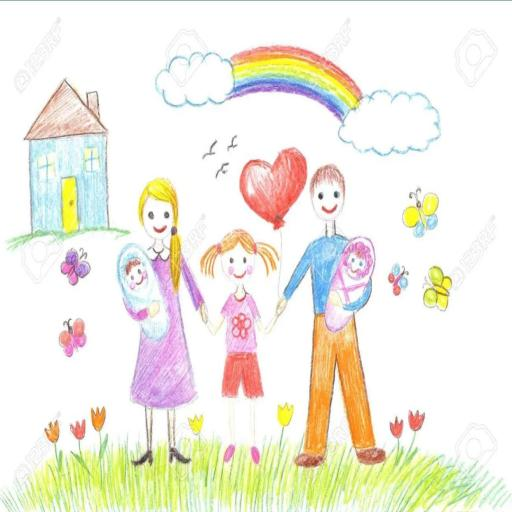objects: (338, 238, 376, 286)
person: (285, 165, 379, 469), (122, 165, 200, 474), (200, 218, 288, 464), (120, 242, 152, 306)
